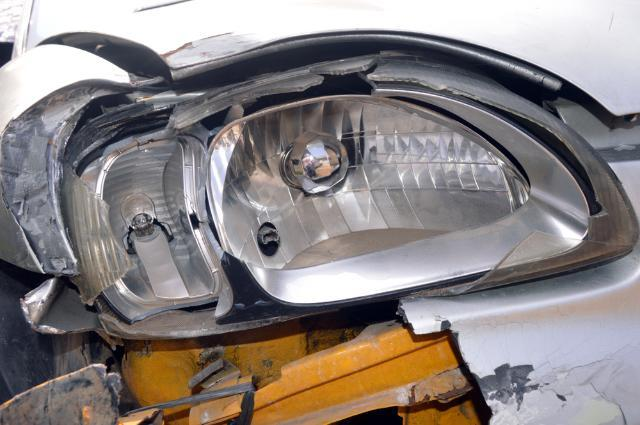lamp broken: (66, 48, 636, 330)
no part: (0, 263, 491, 425)
